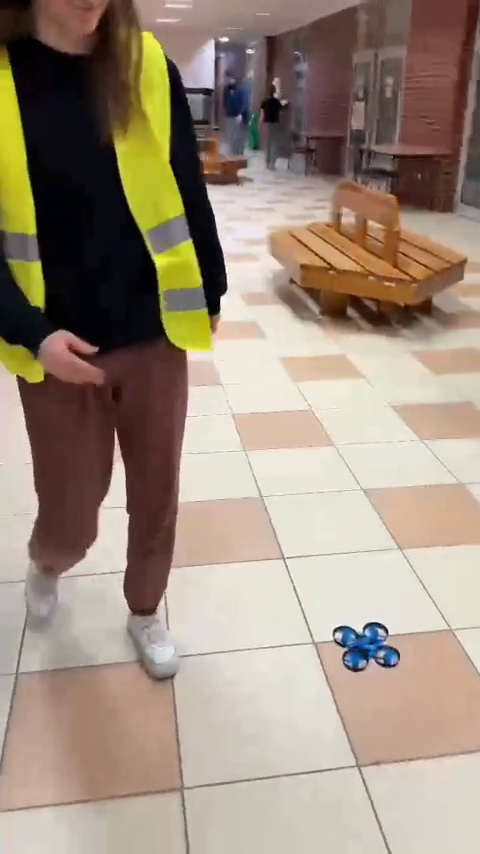drone: (325, 620, 399, 674)
no vest: (212, 67, 248, 161), (254, 82, 289, 169)
vest: (0, 4, 218, 667)
